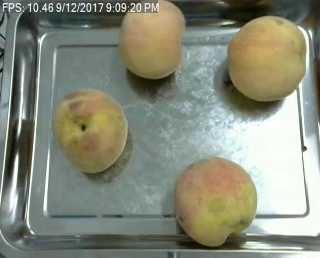Peach: (174, 156, 257, 247), (227, 14, 309, 101), (53, 88, 128, 172), (118, 0, 185, 80)
